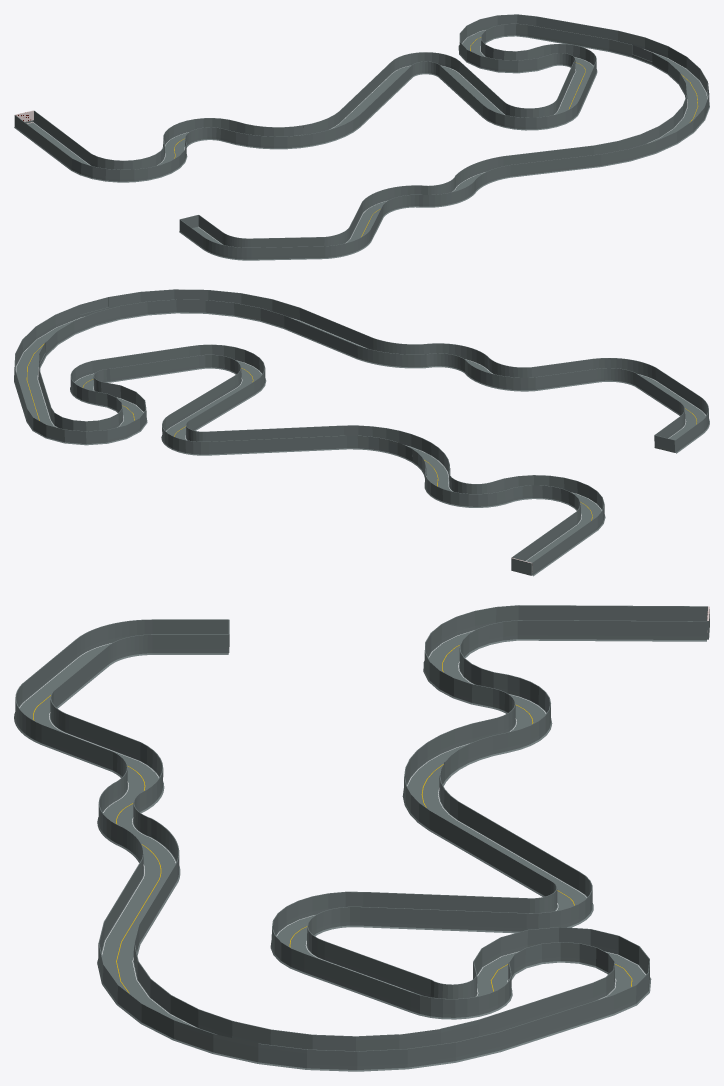
The model's file is Track.fbx.
3 views of the same model, one above another, from view 1: azimuth 30°, elevation 25°; view 2: azimuth 150°, elevation 25°; view 3: azimuth 270°, elevation 25° (orthographic). The views are drawn at different scales.
Parts seen in each view (by area): view 1: Road; view 2: Road; view 3: Road.
Part boxes in pixels (x1,y1,x2,y2): Road: [14, 14, 709, 260]; Road: [14, 289, 709, 576]; Road: [14, 605, 709, 1071].
Bounding box in the file's own units: 66881 × 1381 × 43958.
